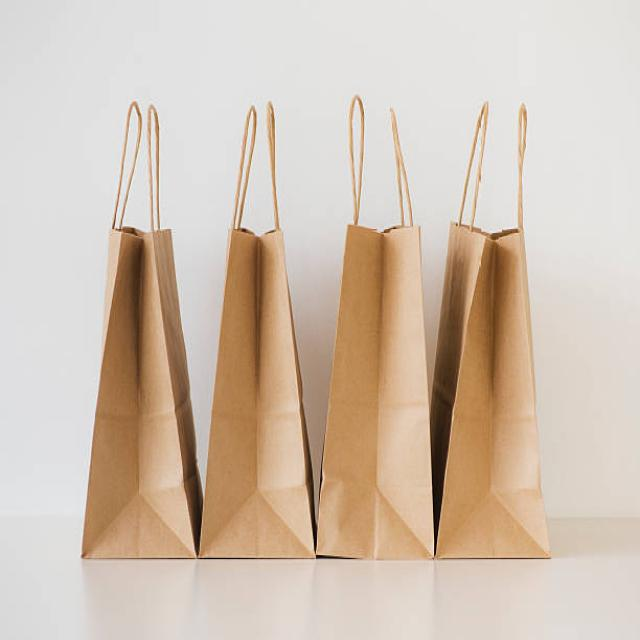electronic: (315, 94, 434, 559), (433, 100, 551, 559), (198, 100, 316, 558), (80, 225, 201, 559)
